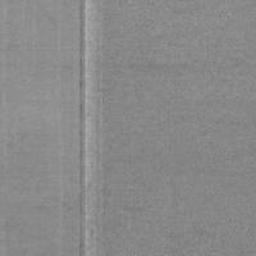Welding line: (79, 0, 85, 256)
